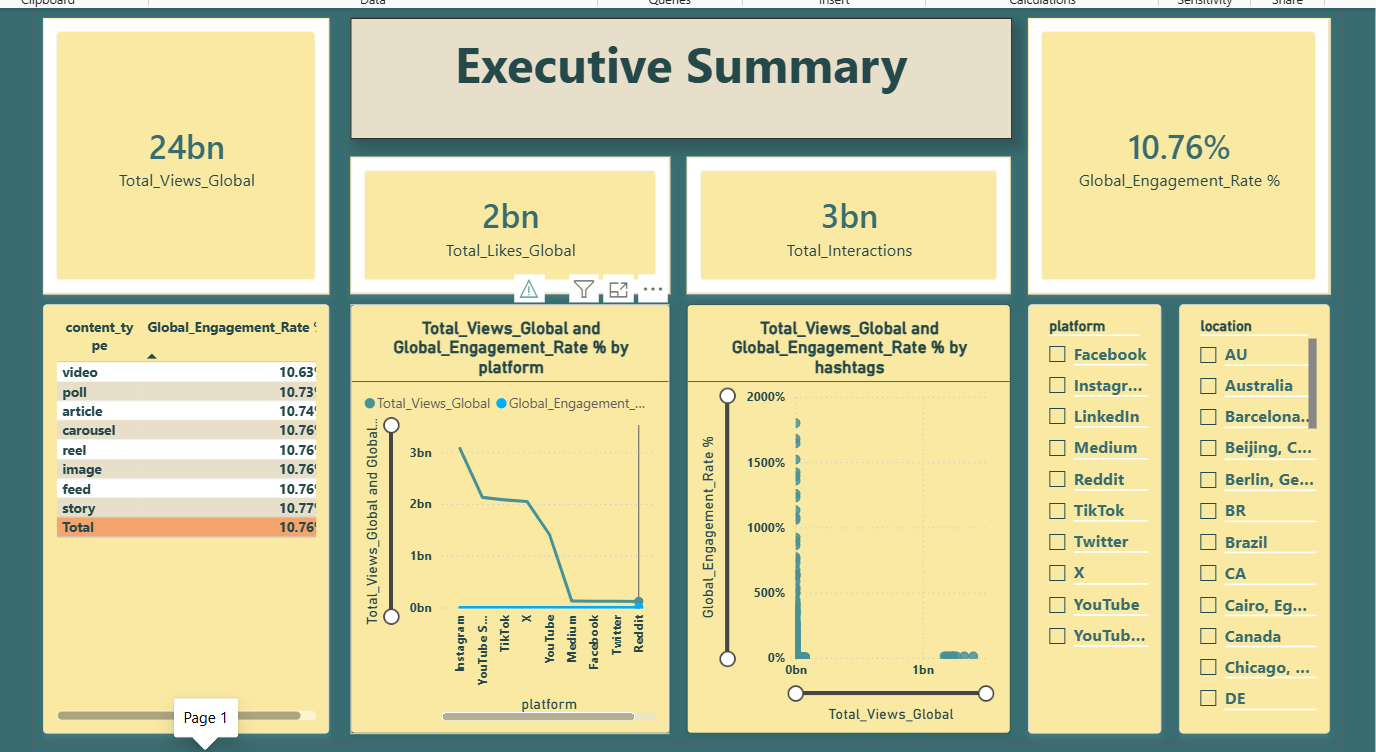

The dashboard page shown, as its layout file describes it:
{"tool":"powerbi","page":{"name":"Page 1","canvas":[1280,720],"ordinal":0},"visuals":[{"type":"cardVisual","fields":{"Data":["Dim_Hashtags.Total_Views_Global"]},"box":[10,10,280,270],"z":0},{"type":"cardVisual","fields":{"Data":["Dim_Hashtags.Total_Likes_Global"]},"box":[310,145.7,312.9,134.3],"z":1000},{"type":"cardVisual","fields":{"Data":["Dim_Hashtags.Total_Interactions"]},"box":[640,145.7,317.1,134.3],"z":2000},{"type":"cardVisual","fields":{"Data":["Dim_Hashtags.Global_Engagement_Rate %"]},"box":[972.9,10,295.7,270],"z":3000},{"type":"lineChart","fields":{"Category":["Dim_Platform.platform"],"Y":["Dim_Hashtags.Total_Views_Global","Dim_Hashtags.Global_Engagement_Rate %"]},"box":[310,290,312.9,420],"z":4000},{"type":"tableEx","fields":{"Values":["social_media_performance1.content_type","Dim_Hashtags.Global_Engagement_Rate %"]},"box":[10,290,280,420],"z":5000},{"type":"scatterChart","fields":{"X":["Dim_Hashtags.Total_Views_Global"],"Y":["Dim_Hashtags.Global_Engagement_Rate %"],"Category":["Dim_Hashtags.hashtags"]},"box":[640,290,317.1,420],"z":6000},{"type":"slicer","fields":{"Values":["Dim_Platform.platform"]},"box":[972.9,290,130,420],"z":7000},{"type":"slicer","fields":{"Values":["Dim_Region.location"]},"box":[1121.4,290,147.1,420],"z":8000},{"type":"textbox","box":[310,10,647.1,118.6],"z":9000}]}

Visuals, with their boxes in screenshot pixels (x1, y1, x2, y2):
cardVisual - Dim_Hashtags.Total_Views_Global: box=[35, 10, 324, 289]
cardVisual - Dim_Hashtags.Total_Likes_Global: box=[345, 150, 667, 289]
cardVisual - Dim_Hashtags.Total_Interactions: box=[685, 150, 1012, 289]
cardVisual - Dim_Hashtags.Global_Engagement_Rate %: box=[1028, 10, 1333, 289]
lineChart - Dim_Platform.platform x Dim_Hashtags.Total_Views_Global: box=[345, 299, 667, 732]
tableEx - social_media_performance1.content_type x Dim_Hashtags.Global_Engagement_Rate %: box=[35, 299, 324, 732]
scatterChart - Dim_Hashtags.Total_Views_Global x Dim_Hashtags.Global_Engagement_Rate %: box=[685, 299, 1012, 732]
slicer - Dim_Platform.platform: box=[1028, 299, 1162, 732]
slicer - Dim_Region.location: box=[1181, 299, 1333, 732]
textbox: box=[345, 10, 1012, 133]
